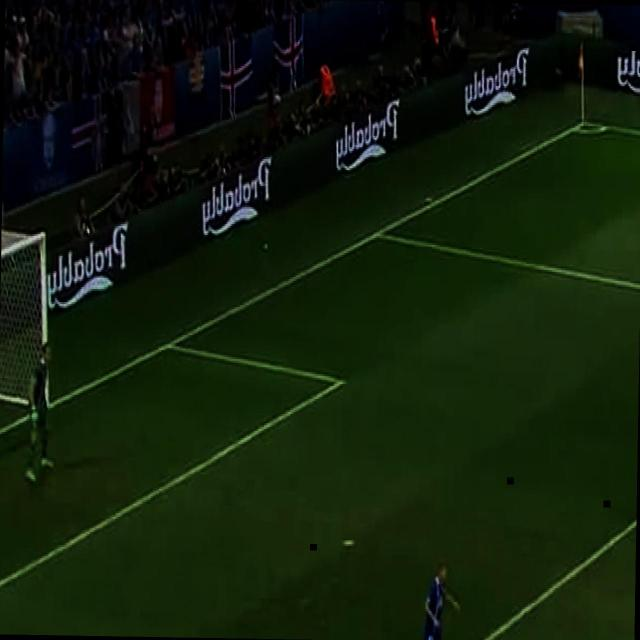player-white: (26, 343, 56, 482), (417, 563, 461, 640)
